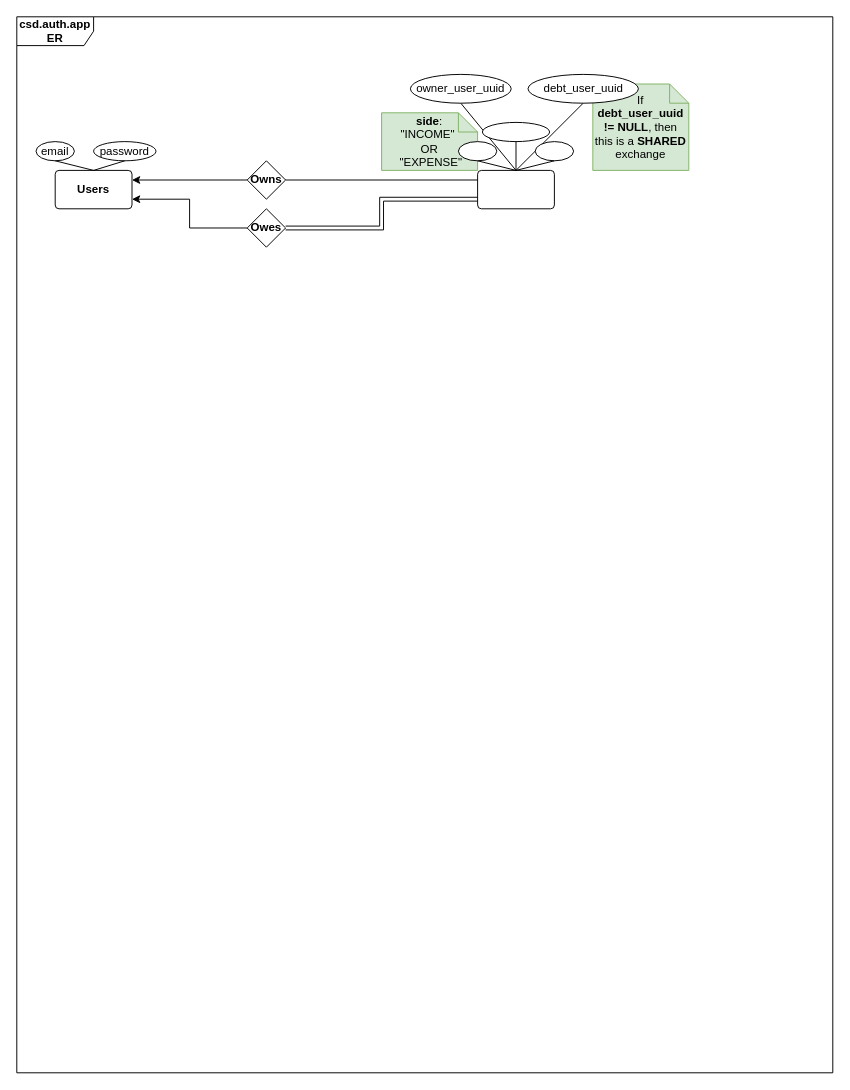
Image size: 850x1090. Some labels were removed from this diagram. The shapes that lost their labels are listed below. From the top down, each one's centre as x and y in pixels, then its label:
At point (477, 151): "side".
At point (515, 131): "date_time".
At point (554, 151): "value".
At point (515, 189): "Exchanges".
